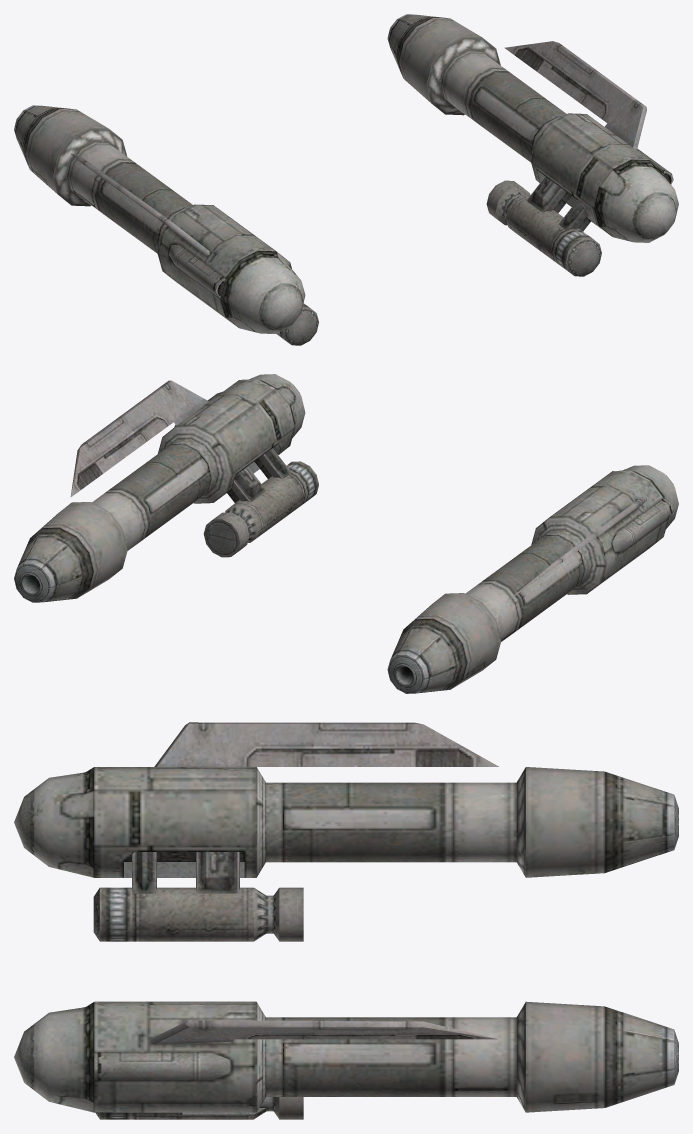
File: ywing_engine_s02_l1.fbx
The picture shows the model from 3 angles, top to bottom: view 1: azimuth 30°, elevation 25°; view 2: azimuth 150°, elevation 25°; view 3: azimuth 270°, elevation 25°; orthographic projection. The views are drawn at different scales.
Parts seen in each view (by area): view 1: mesh_node; view 2: mesh_node; view 3: mesh_node.
Boxes of the visible parts, <box> form: mesh_node: <box>14,14,678,345</box>; mesh_node: <box>14,374,678,693</box>; mesh_node: <box>14,722,678,1119</box>.
Size of the model in its own units: 14.28 by 3.46 by 13.34.
Materials: 1 (1 with a texture image).
